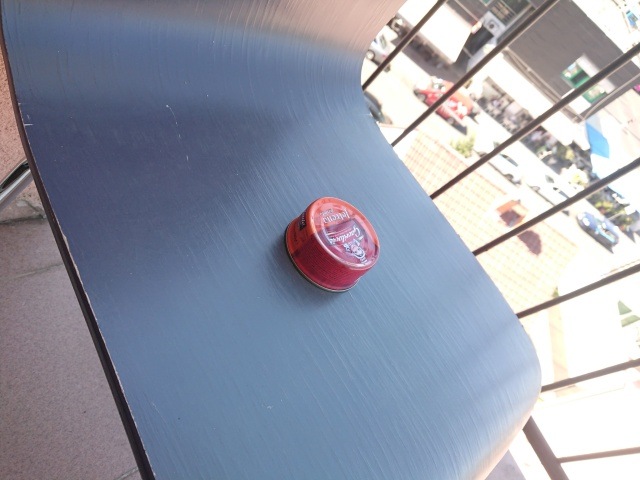Gavrilovic Pork Liver Pate 100g: (281, 194, 382, 296)
